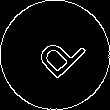P_SW: (24, 24, 86, 86)
